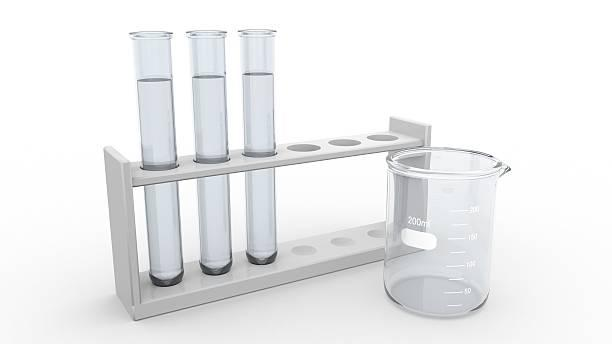Beaker: (376, 133, 512, 324)
Test tube: (122, 29, 184, 282), (235, 26, 293, 267), (189, 30, 242, 270)
